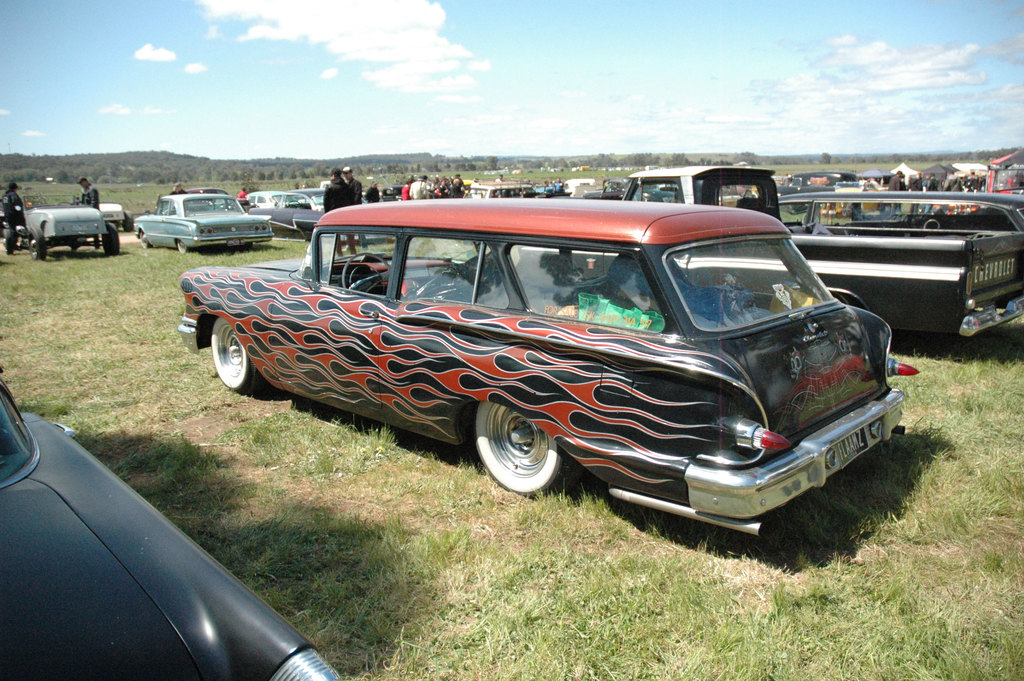Car: (3, 168, 1023, 551), (0, 379, 340, 680)
